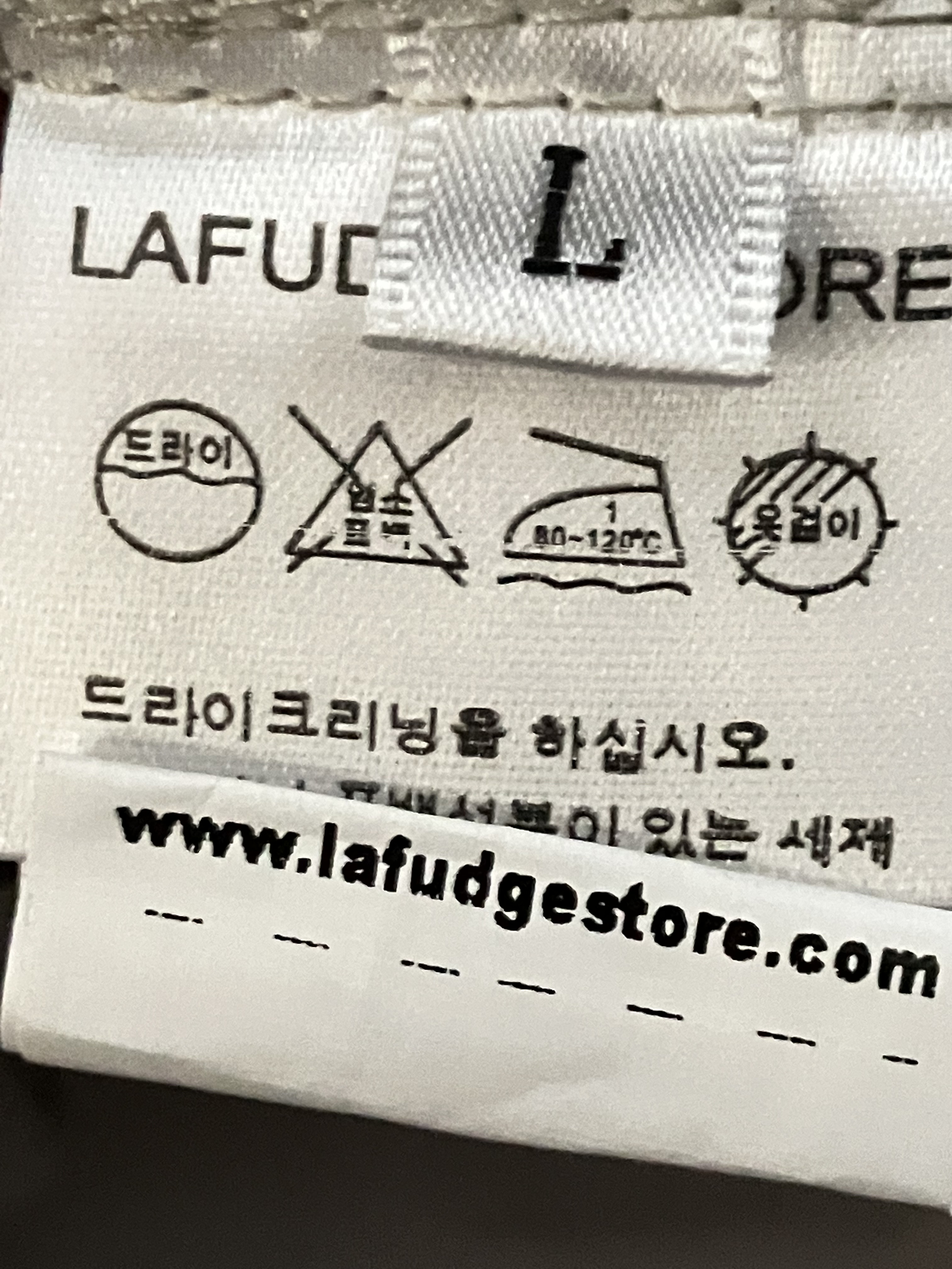KR_dry_clean: (77, 387, 272, 563)
KR_hang_dry_in_shade: (710, 427, 904, 602)
KR_iron_low_temp_with_cloth: (493, 409, 694, 600)
KR_no_chlorine_bleach: (283, 391, 492, 594)
